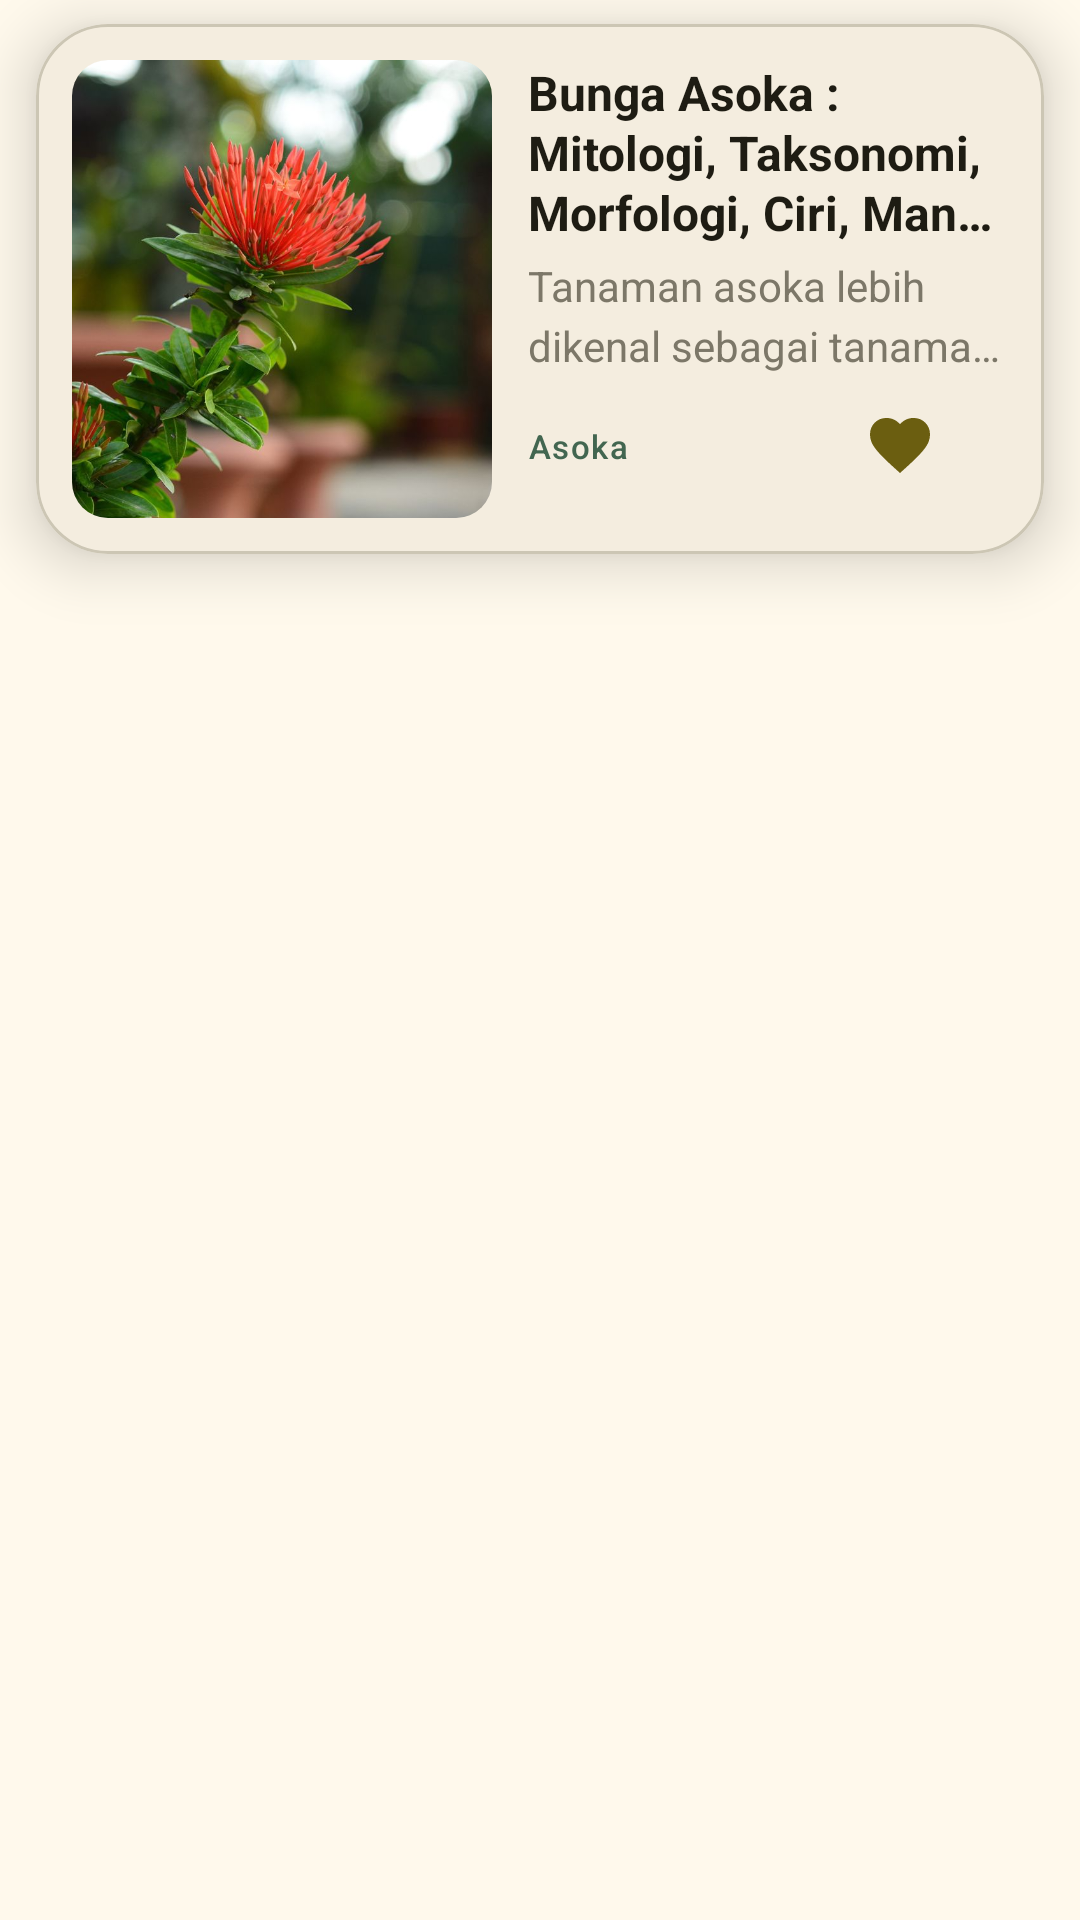

Icons on this 1080px×1920px Android screen, each with its box as (x1, y1, x2, y2):
favorite: (870, 418, 930, 473)
